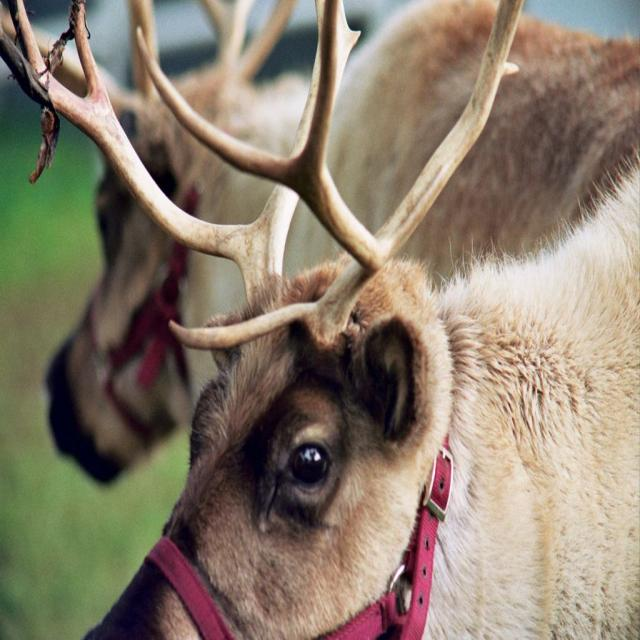Deer: (0, 0, 639, 640), (23, 0, 640, 500)
